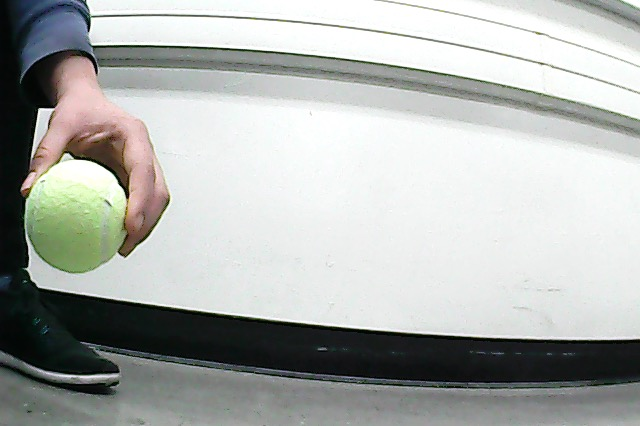ball: (28, 161, 129, 274)
